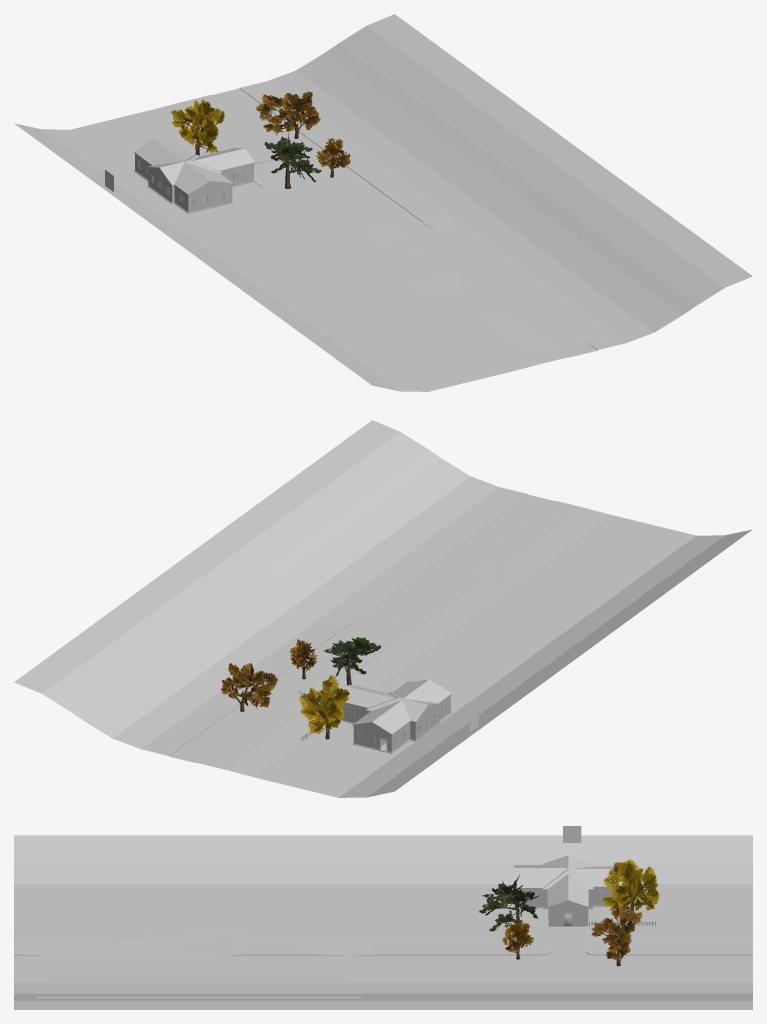
Rendered from house.fbx.
The picture shows the model from 3 angles, top to bottom: view 1: azimuth 30°, elevation 25°; view 2: azimuth 150°, elevation 25°; view 3: azimuth 270°, elevation 25°; orthographic projection. The views are drawn at different scales.
Visible parts, largest first — view 1: Plane.001, Plane, building_windows.002, building_windows, tree 2., tree 1., tree 3., tree 4.; view 2: Plane.001, Plane, building_windows.002, building_windows, tree 1., tree 2., tree 3., tree 4.; view 3: Plane.001, Plane, building_windows.002, tree 1., building_windows, tree 2., tree 3., tree 4..
Part boxes in pixels (left/top/right/bottom): Plane.001: left=194, top=145, right=752, bottom=391; Plane: left=14, top=14, right=573, bottom=260; building_windows.002: left=134, top=139, right=254, bottom=195; building_windows: left=134, top=154, right=254, bottom=213; tree 2.: left=256, top=91, right=320, bottom=138; tree 1.: left=171, top=99, right=224, bottom=155; tree 3.: left=264, top=133, right=321, bottom=188; tree 4.: left=316, top=138, right=350, bottom=177; Plane.001: left=193, top=420, right=752, bottom=666; Plane: left=14, top=551, right=572, bottom=797; building_windows.002: left=340, top=679, right=452, bottom=734; building_windows: left=337, top=695, right=452, bottom=753; tree 1.: left=298, top=675, right=349, bottom=739; tree 2.: left=220, top=663, right=277, bottom=711; tree 3.: left=323, top=637, right=380, bottom=685; tree 4.: left=289, top=639, right=317, bottom=679; Plane.001: left=14, top=835, right=383, bottom=1009; Plane: left=383, top=835, right=752, bottom=1009; building_windows.002: left=514, top=855, right=627, bottom=907; tree 1.: left=602, top=859, right=659, bottom=913; building_windows: left=514, top=887, right=631, bottom=926; tree 2.: left=591, top=905, right=642, bottom=966; tree 3.: left=479, top=874, right=539, bottom=937; tree 4.: left=502, top=919, right=533, bottom=959.
Bounding box in the file's own units: 4909 × 742 × 8000.
